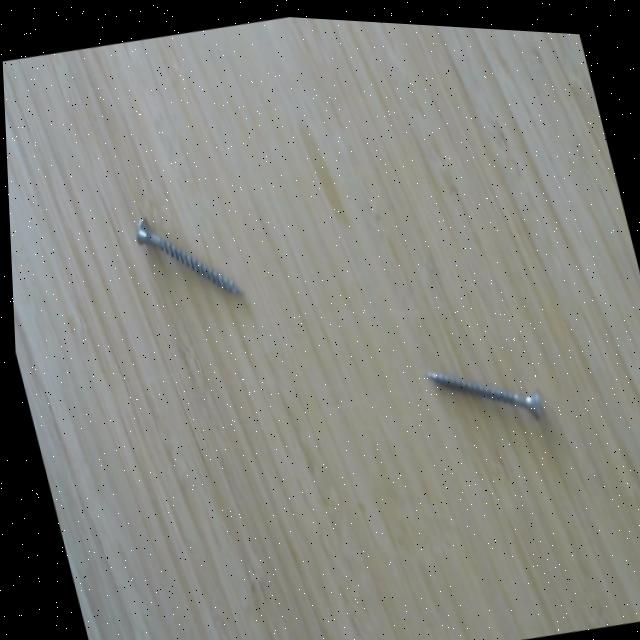Black screw: (119, 190, 255, 323), (412, 333, 551, 440)
